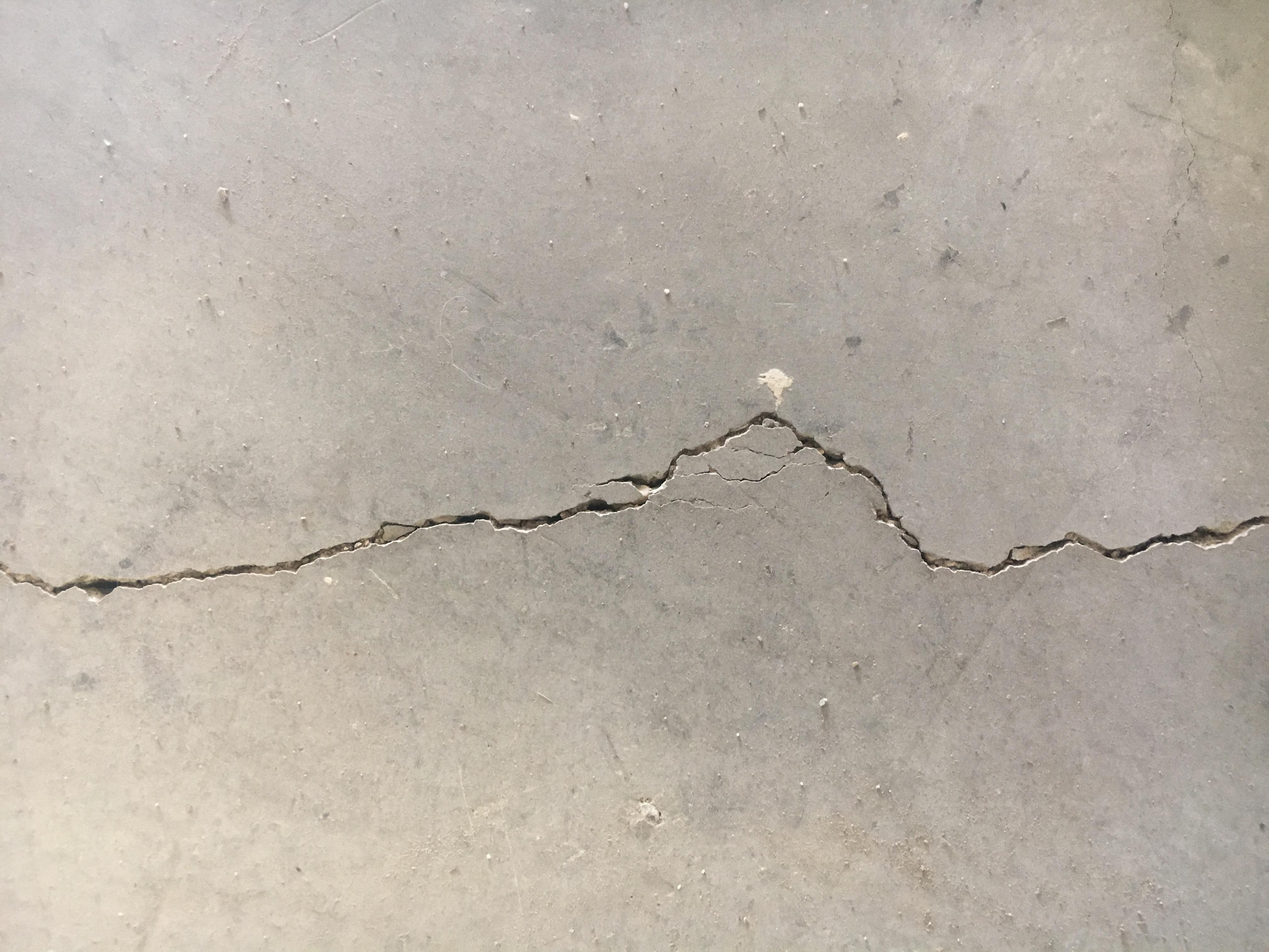Horizontal Settlement Crack: (3, 405, 1265, 603)
